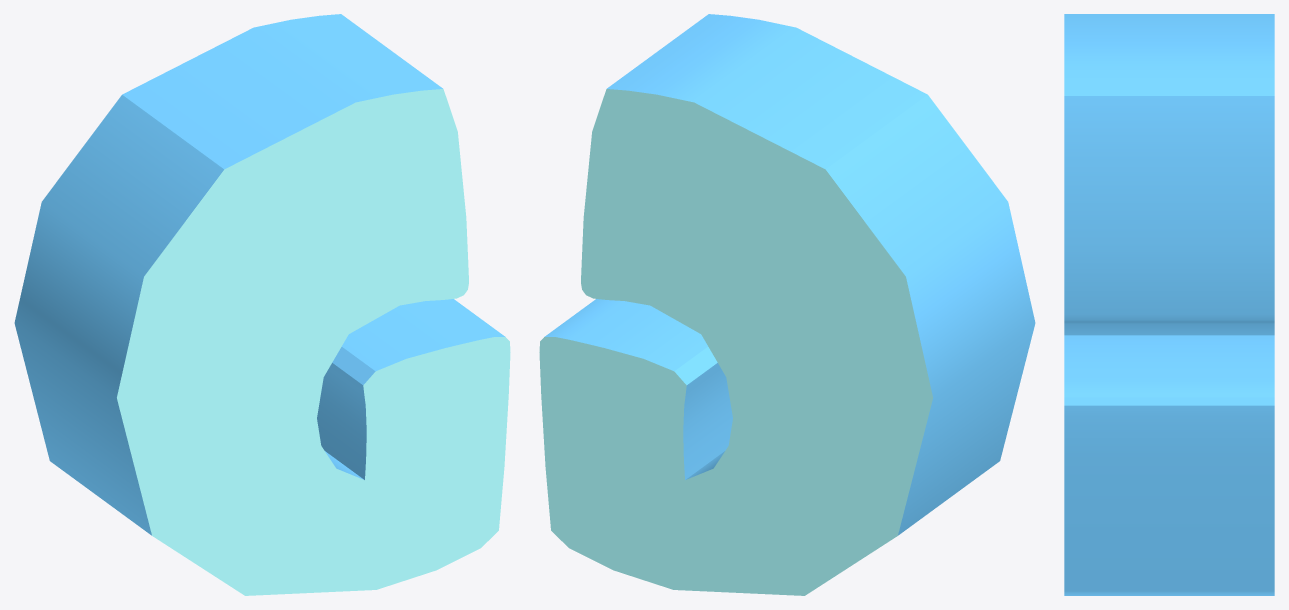
3 views of the same model, side by side, from view 1: azimuth 30°, elevation 25°; view 2: azimuth 150°, elevation 25°; view 3: azimuth 270°, elevation 25° (orthographic). The views are drawn at different scales.
Visible parts, largest first — view 1: g; view 2: g; view 3: g.
Boxes of the visible parts, x1,y1,x2,y2 form: g: [14, 14, 510, 595]; g: [539, 14, 1035, 595]; g: [1064, 14, 1274, 595].
Size of what is drawn, in the model's own units: 0.4 by 0.4782 by 0.18.
